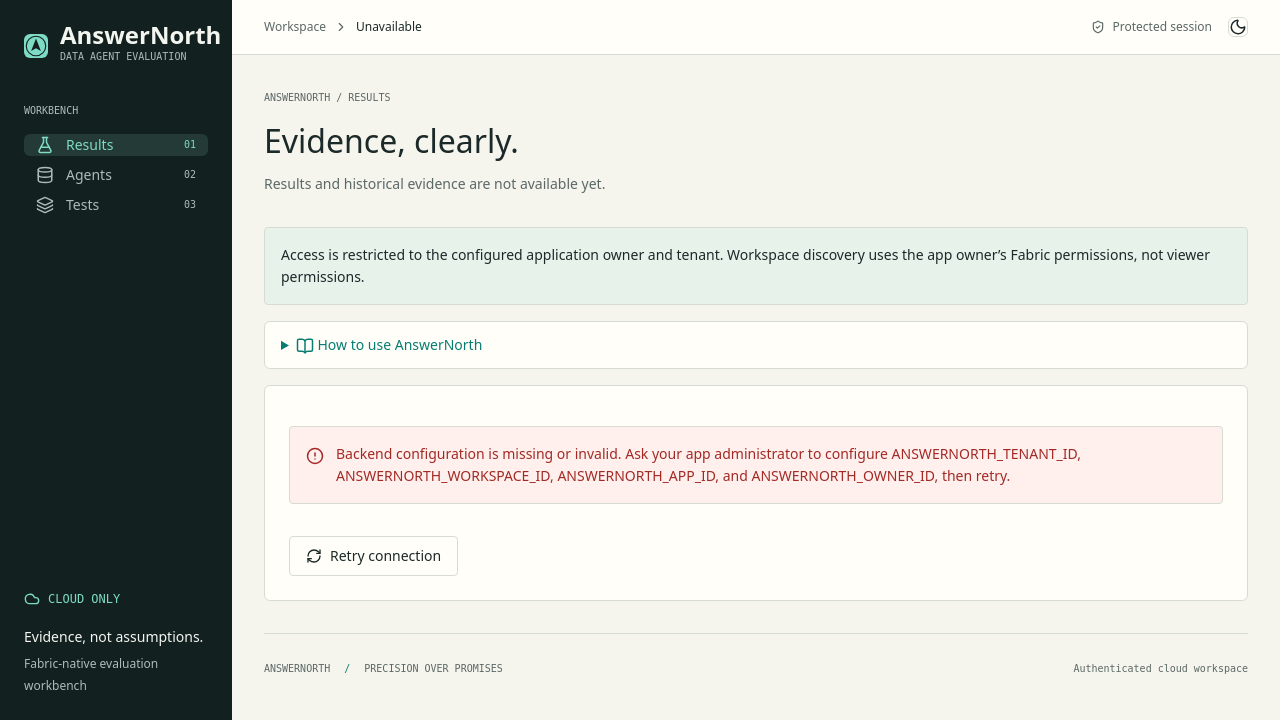
Test case: Proofbench › explains backend configuration and owner access errors without leaking provider text
Expected: the message shows "ANSWERNORTH_TENANT_ID", 336,444 -> 1081,485
Expected: the message shows "ANSWERNORTH_WORKSPACE_ID", 336,444 -> 1081,485
Click the button "Retry connection" at (374, 556), box 289,536 -> 458,576
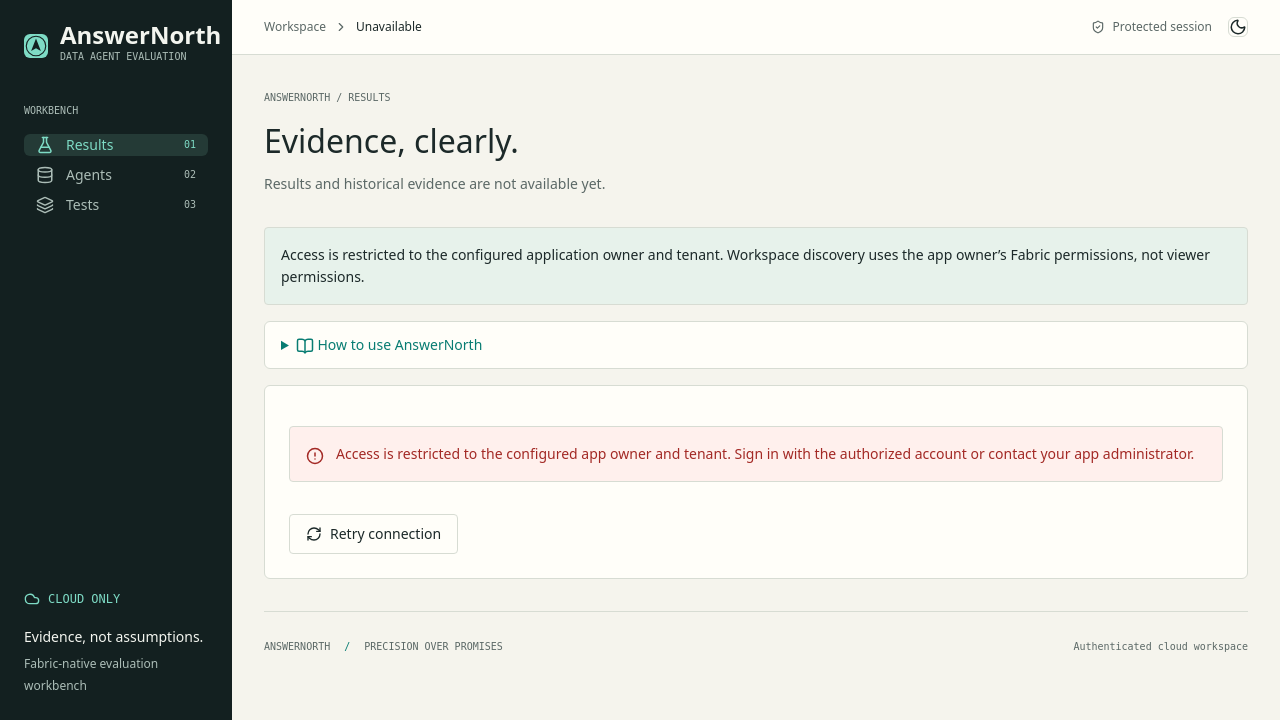
Expected: the message shows "configured app owner and tenant", 336,444 -> 1194,463
